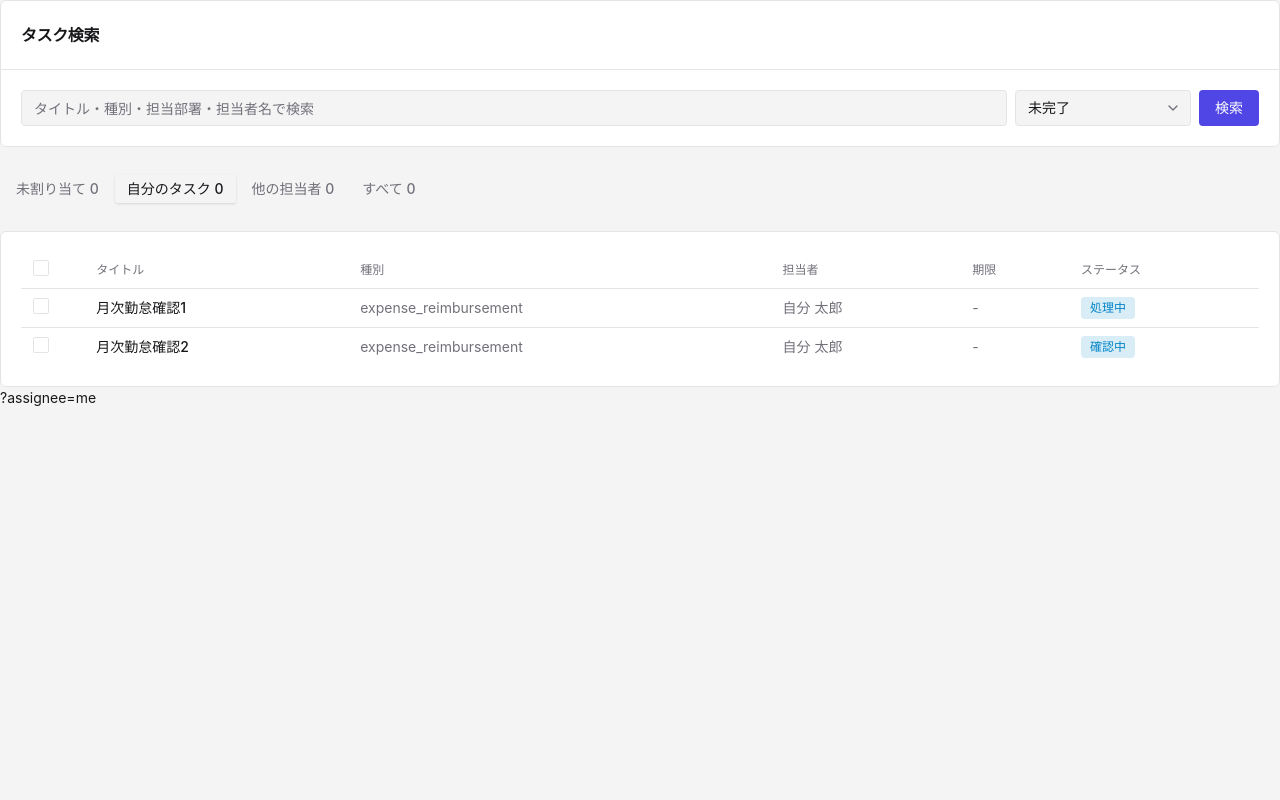
Scenario: BackOfficeTaskListPage › bulk-completes my own tasks after the confirmation dialog and notifies
The image size is (1280, 800).
Step 1. Click the checkbox named "このページのタスクをすべて選択" → (41, 268), box 33,260 -> 49,276
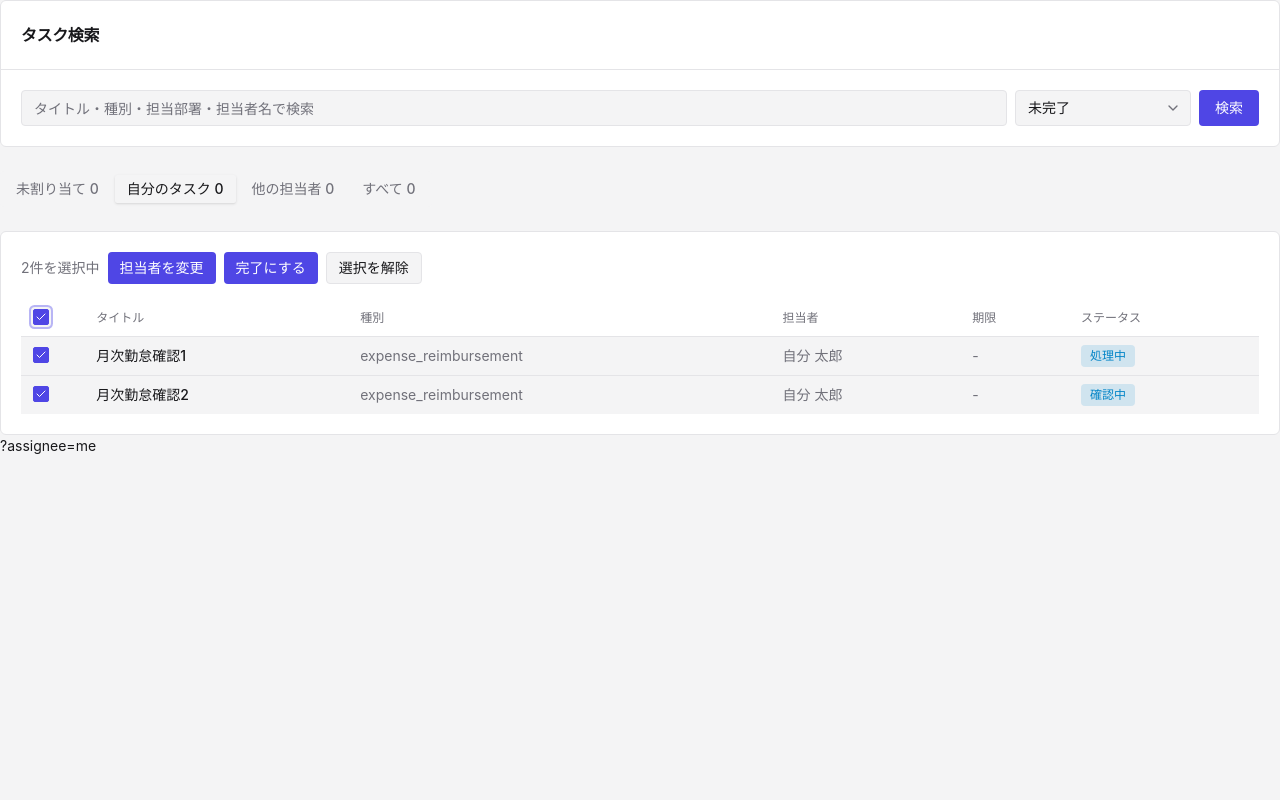
Check: the text "2件を選択中" is shown, box 21,258 -> 100,278
Step 2. Click the button "完了にする" → (271, 268), box 224,252 -> 318,284
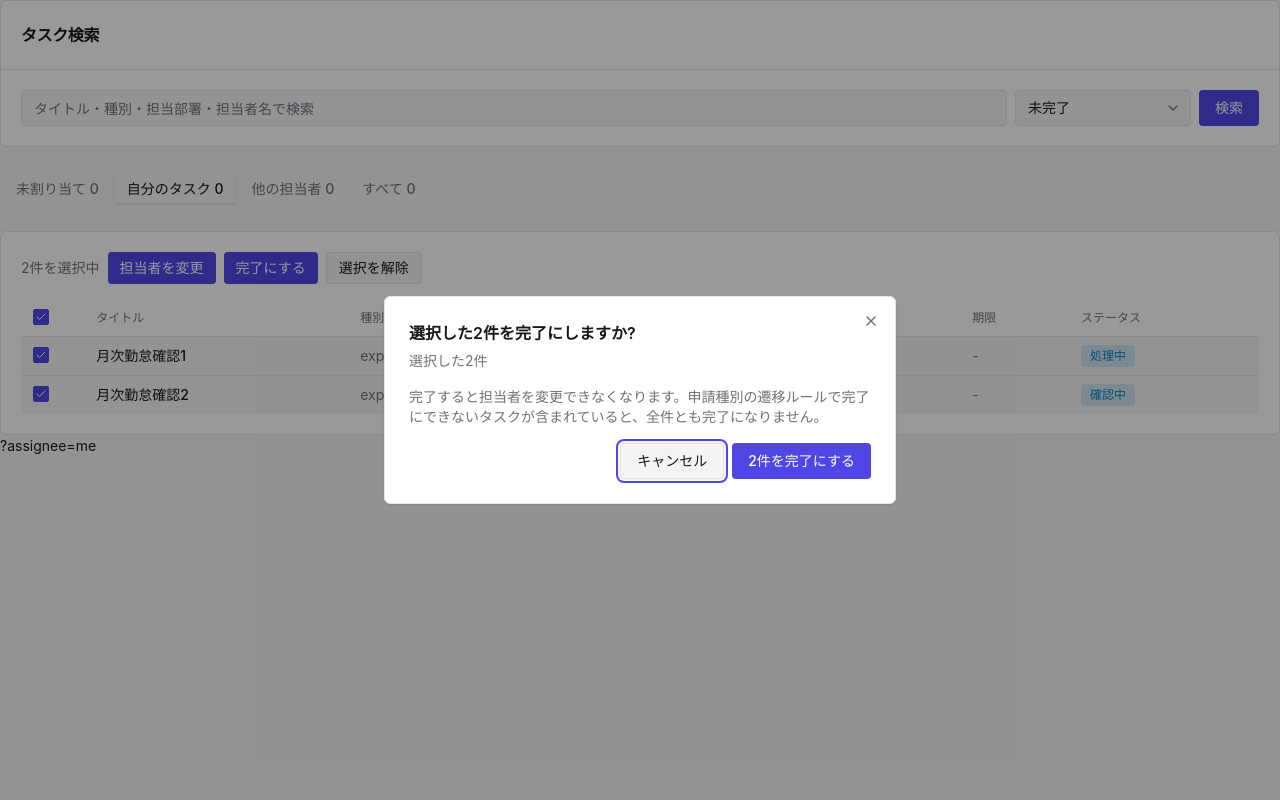
Check: the heading "選択した2件を完了にしますか?" is shown, box 409,323 -> 636,343
Check: the text "完了すると担当者を変更できなくなります。申請種別の遷移ルールで完了にできないタスクが含まれていると、全件とも完了になりません。" is shown, box 409,387 -> 871,427
Step 3. Click the button "2件を完了にする" → (802, 461), box 732,443 -> 871,479
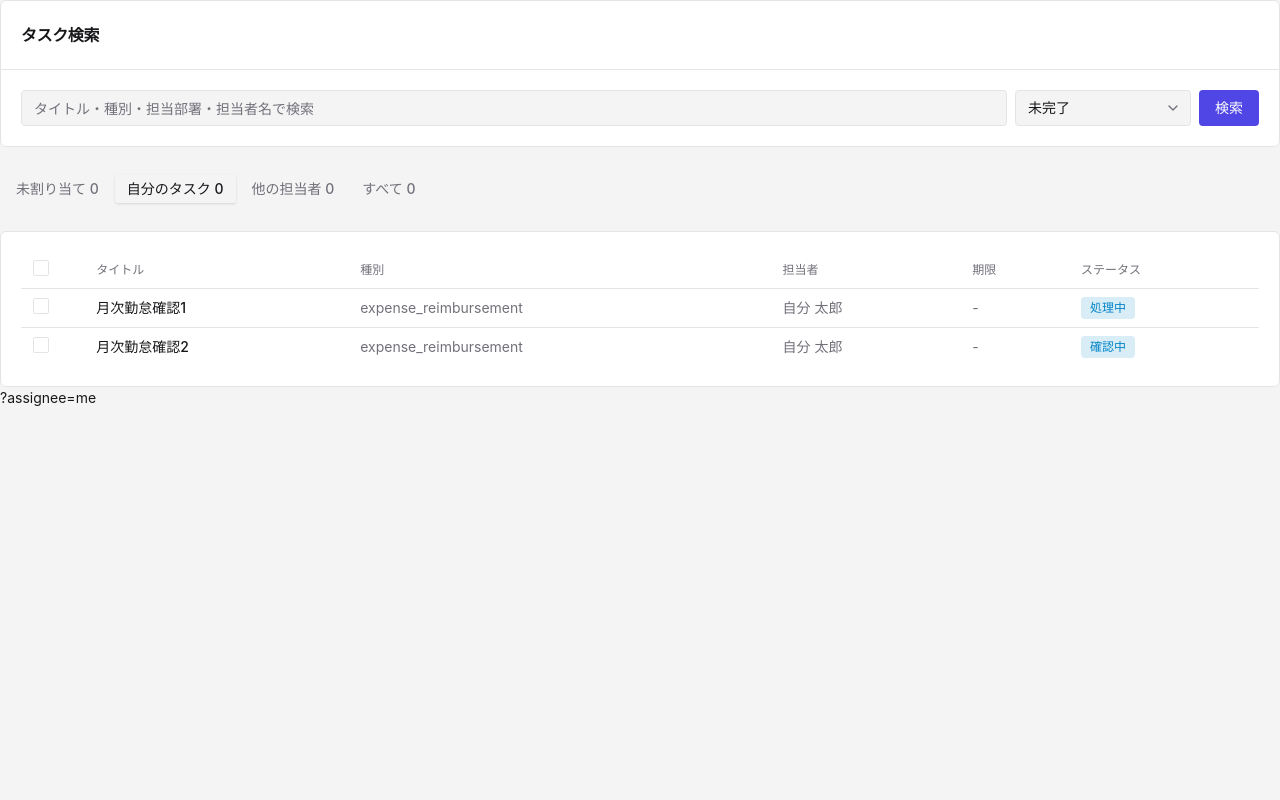
Check: the dialog is gone
Check: the text "2件を選択中" is gone
